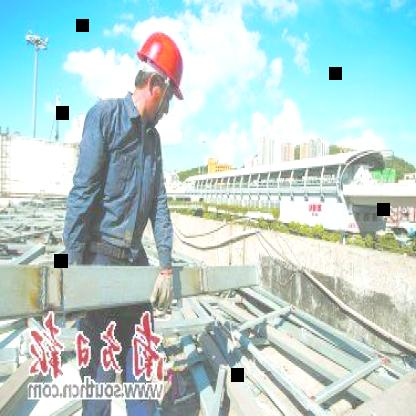helmet: (131, 22, 189, 120)
